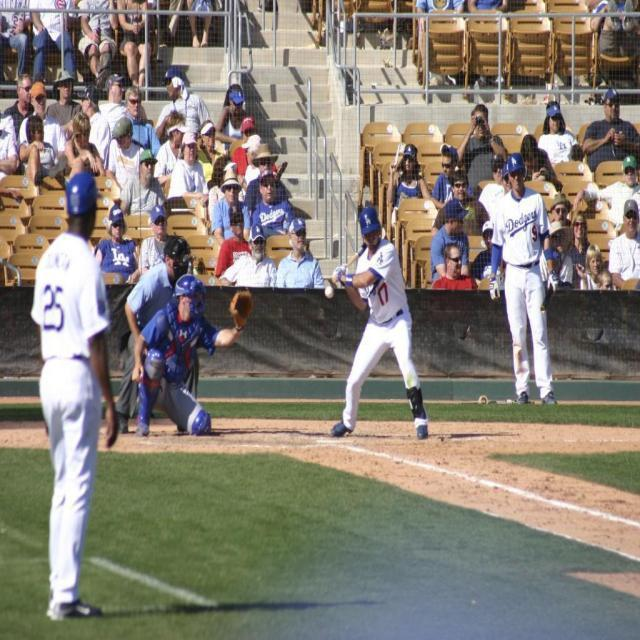ball: (324, 286, 334, 300)
bat: (344, 245, 368, 268)
